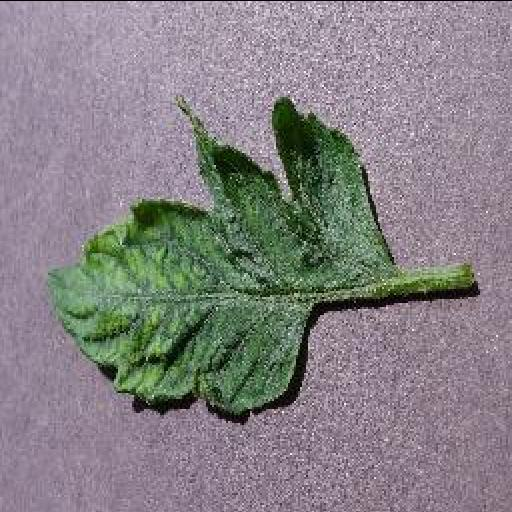disease_tomato: (34, 97, 392, 419)
